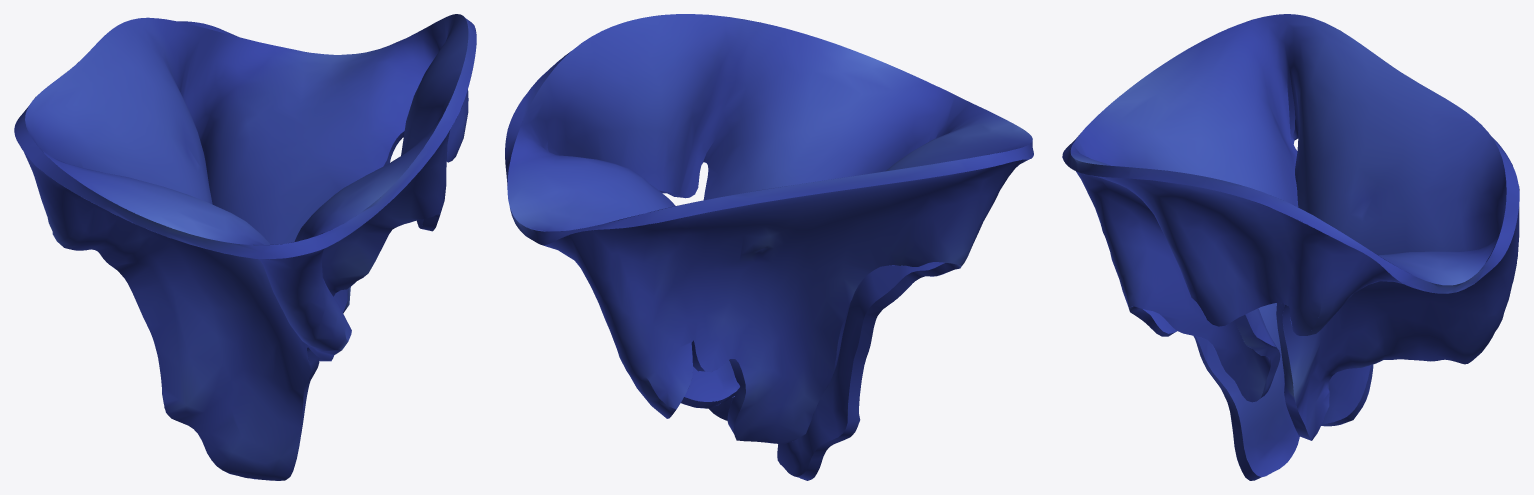
3 views of the same model, side by side, from view 1: azimuth 30°, elevation 25°; view 2: azimuth 150°, elevation 25°; view 3: azimuth 270°, elevation 25° (orthographic). The views are drawn at different scales.
Visible parts, largest first — view 1: OCS14_maxS_9; view 2: OCS14_maxS_9; view 3: OCS14_maxS_9.
Part boxes in pixels (x1,y1,x2,y2): OCS14_maxS_9: (14,14,476,480); OCS14_maxS_9: (505,14,1033,480); OCS14_maxS_9: (1062,14,1519,480).
Bounding box in the file's own units: 1.44 × 1.2 × 1.32.
